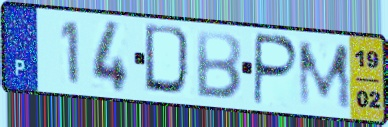1: (58, 21, 83, 87)
4: (89, 18, 132, 95)
B: (193, 28, 244, 102)
D: (142, 22, 196, 100)
M: (295, 40, 355, 111)
P: (251, 31, 301, 108)
